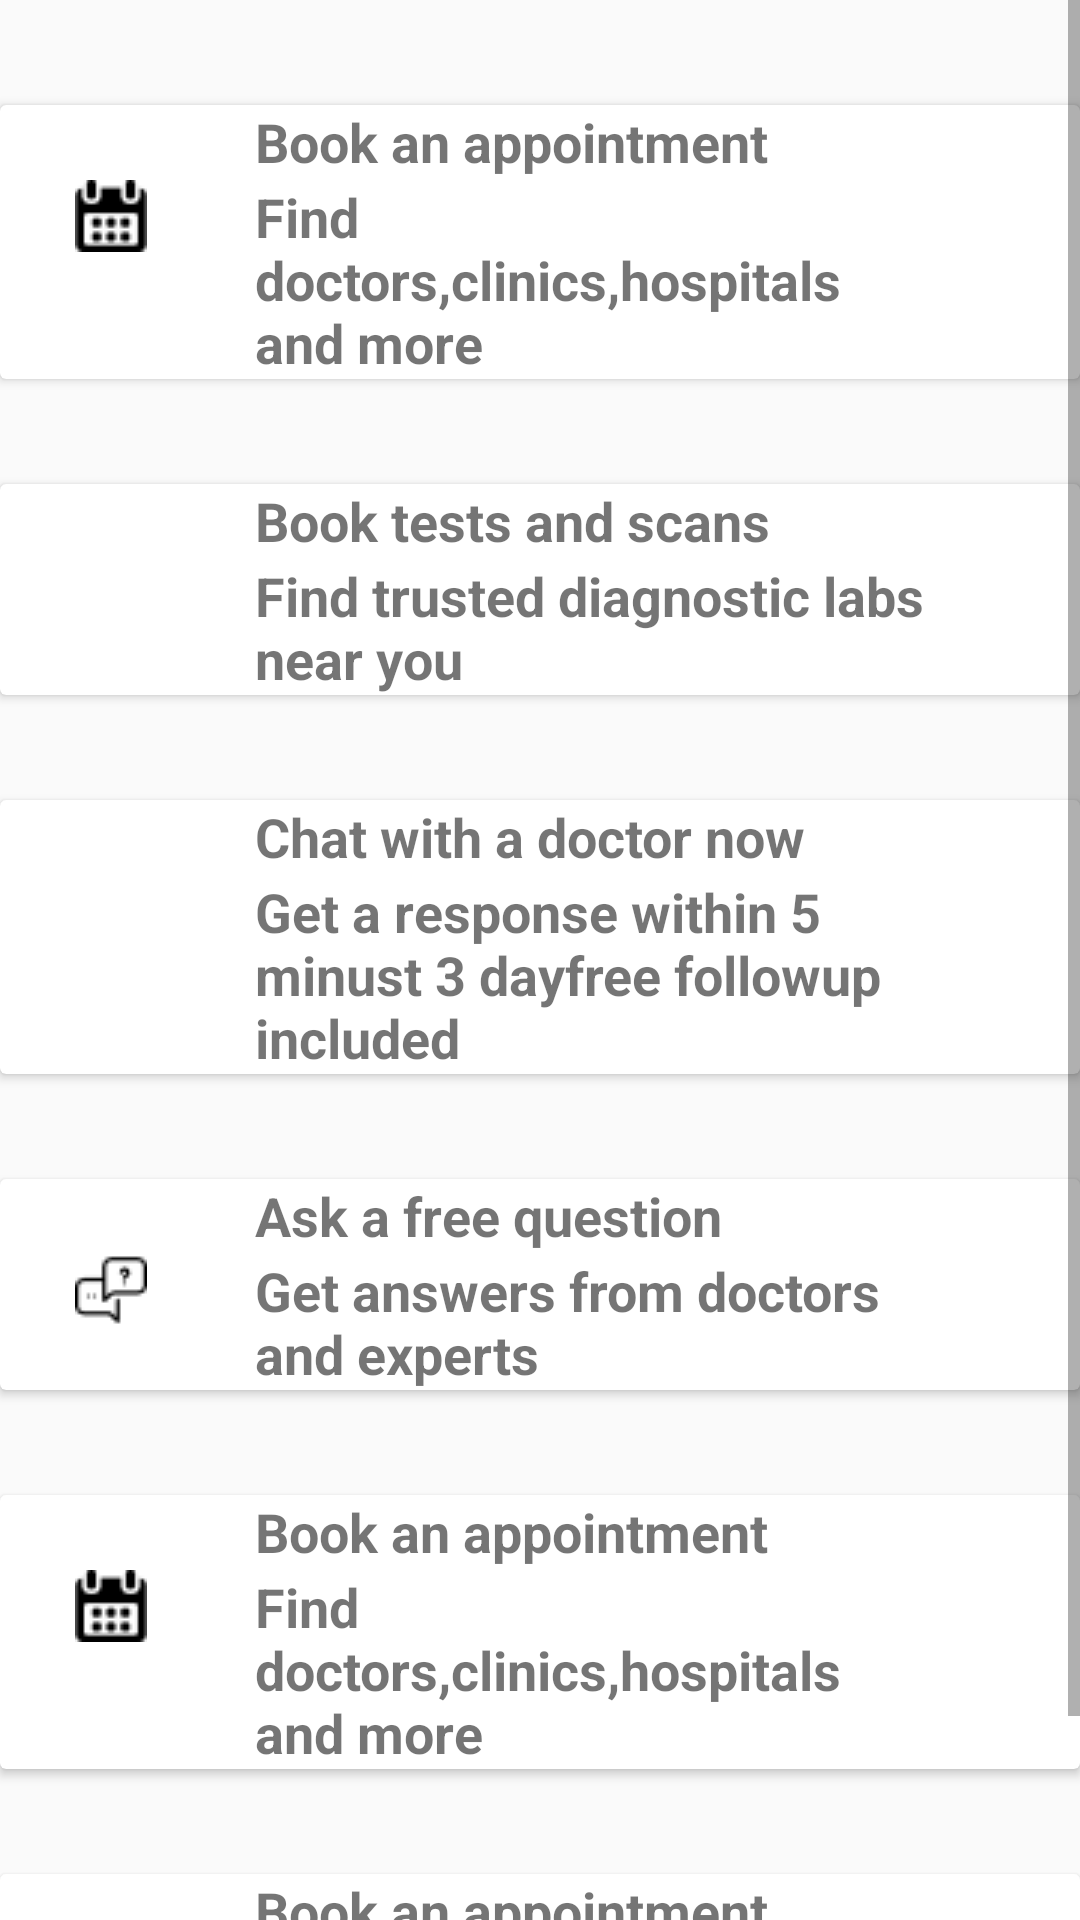

Locate icon controls on the screen. Image size 1080×1920, boxes as [left=x1, top=y1, right=x2, bottom=y2].
calendar: [left=75, top=180, right=147, bottom=252], [left=75, top=1570, right=147, bottom=1642]
discussissue: [left=75, top=1256, right=147, bottom=1324]
